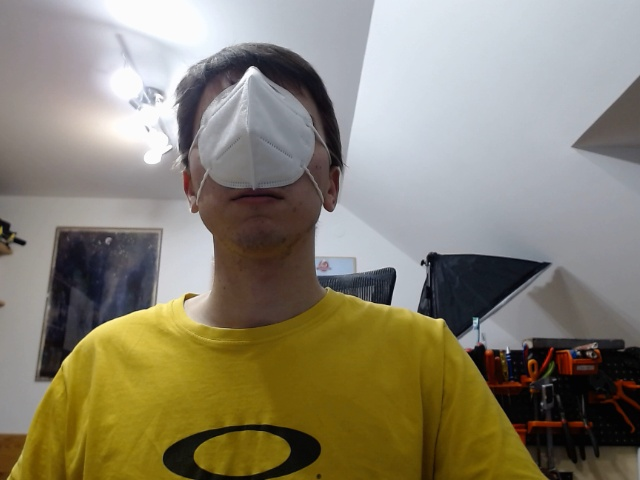WrongMask: (170, 37, 350, 262)
